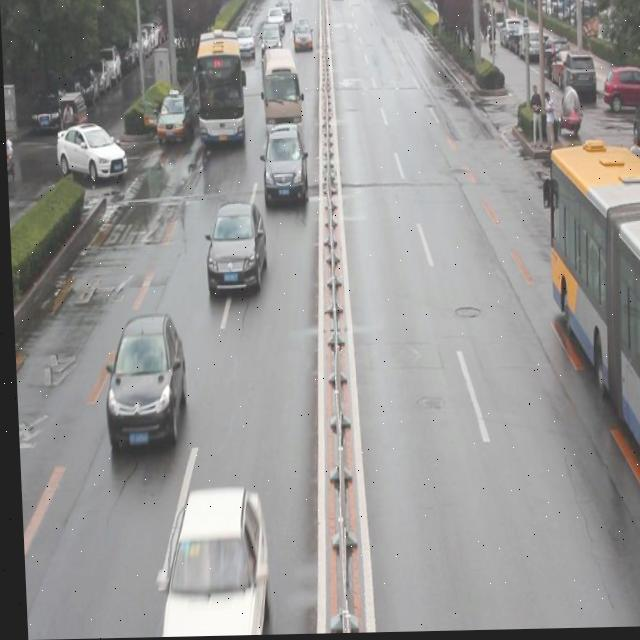car: (152, 492, 259, 638), (98, 315, 184, 453), (201, 203, 265, 294), (53, 123, 126, 186), (259, 126, 305, 211), (155, 103, 193, 159)
truck: (261, 52, 302, 147)
van: (539, 154, 640, 526), (195, 30, 243, 149)
